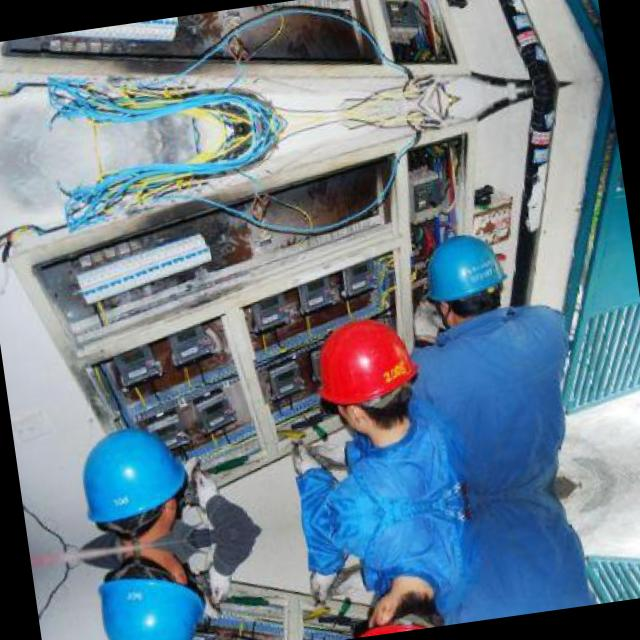helmet: (58, 409, 200, 552), (302, 310, 434, 451), (77, 541, 219, 640), (417, 222, 522, 332), (338, 573, 460, 637)
